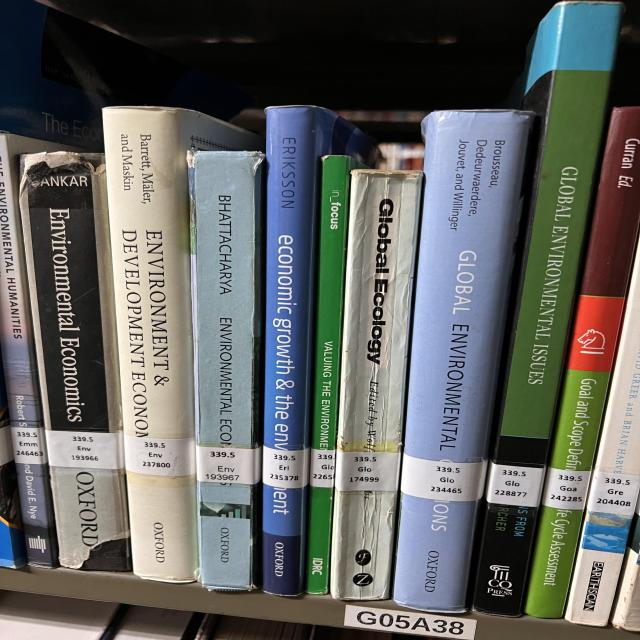Book: (473, 1, 623, 616), (103, 106, 260, 582), (393, 111, 532, 612), (525, 108, 640, 619), (262, 106, 377, 596), (20, 152, 132, 571), (330, 169, 422, 600), (188, 151, 263, 590), (307, 212, 345, 594), (322, 159, 335, 205)
Label: (402, 454, 487, 501), (45, 430, 125, 470), (123, 435, 195, 476), (487, 462, 545, 508), (335, 451, 400, 491), (197, 446, 260, 485), (262, 446, 310, 489), (543, 468, 592, 510), (310, 449, 335, 488)
